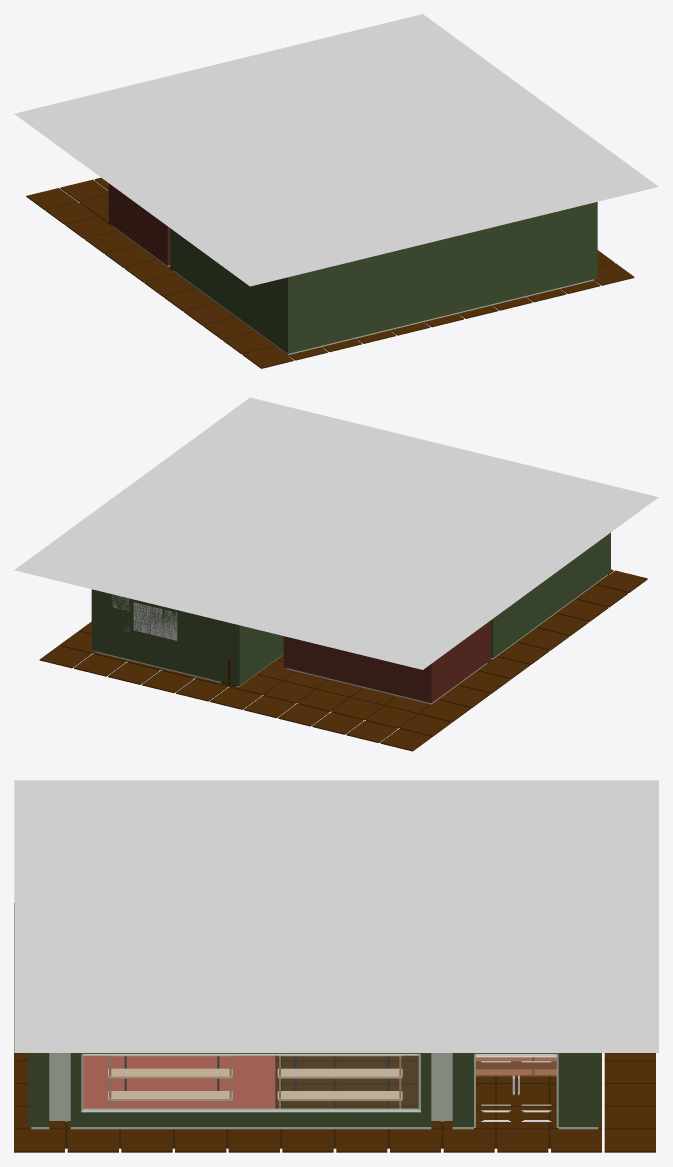
The model's file is game.gltf.
3 renders of one model, top to bottom at view 1: azimuth 30°, elevation 25°; view 2: azimuth 150°, elevation 25°; view 3: azimuth 270°, elevation 25°, orthographic. The views are drawn at different scales.
Visible parts, largest first — view 1: Ceiling, Room, FloorTiles; view 2: Ceiling, Room, FloorTiles, BigPainting; view 3: Ceiling, Room, FloorTiles, Plane.003, Shelf.001, Shelf, Counter.
Part boxes in pixels (x1=…): Ceiling: x1=14, y1=14, x2=658, y2=286; Room: x1=80, y1=183, x2=609, y2=356; FloorTiles: x1=26, y1=177, x2=634, y2=368; Ceiling: x1=14, y1=397, x2=658, y2=669; Room: x1=84, y1=532, x2=610, y2=728; FloorTiles: x1=39, y1=569, x2=647, y2=751; BigPainting: x1=133, y1=602, x2=177, y2=640; Ceiling: x1=14, y1=780, x2=658, y2=1052; Room: x1=28, y1=1053, x2=601, y2=1148; FloorTiles: x1=14, y1=903, x2=655, y2=1152; Plane.003: x1=83, y1=1055, x2=275, y2=1108; Shelf.001: x1=108, y1=1055, x2=232, y2=1108; Shelf: x1=277, y1=1055, x2=402, y2=1108; Counter: x1=476, y1=1057, x2=556, y2=1076.
Size of the model in its own units: 30.38 by 6.28 by 30.39.
9 materials, 9 textured.
